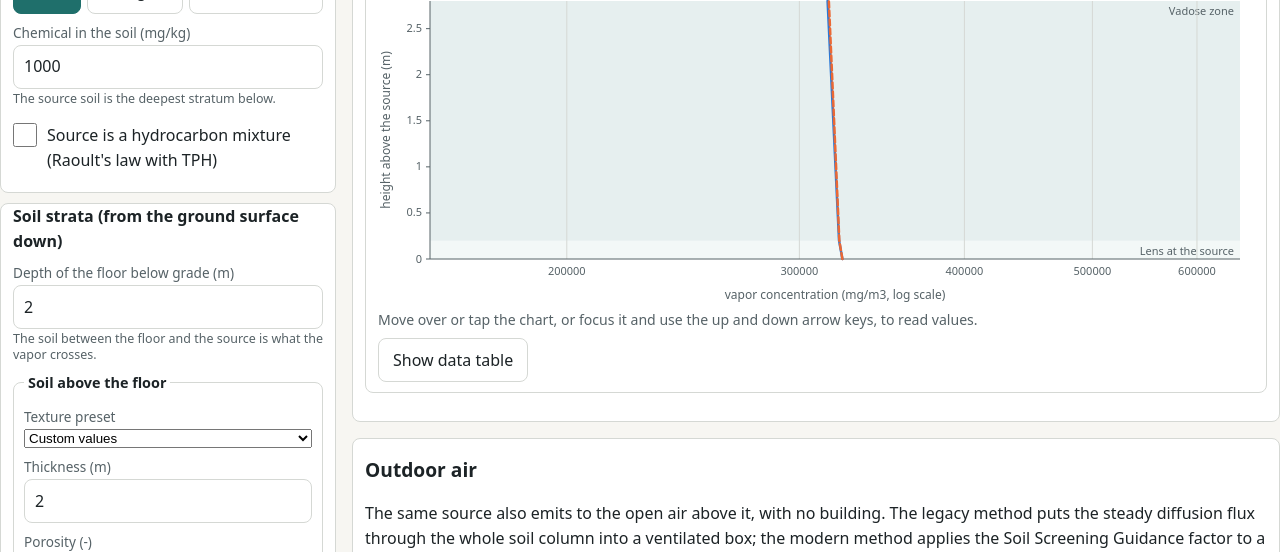
Test case: vapor profile plot › plots the vapor profile of both methods with the strata as bands and a data table
(page scrolled)
Click the button "Show data table": (453, 360) [378,338,528,382]
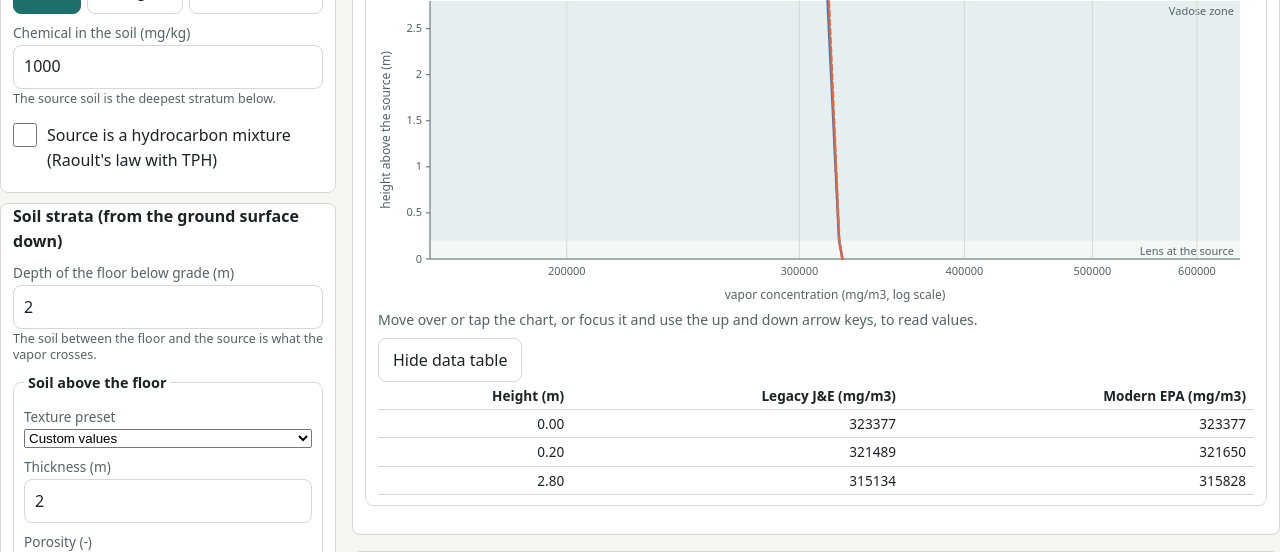
Expected: the text "0.00" is shown, [378,410,572,438]
Expected: the text "2.80" is shown, [378,466,572,494]
